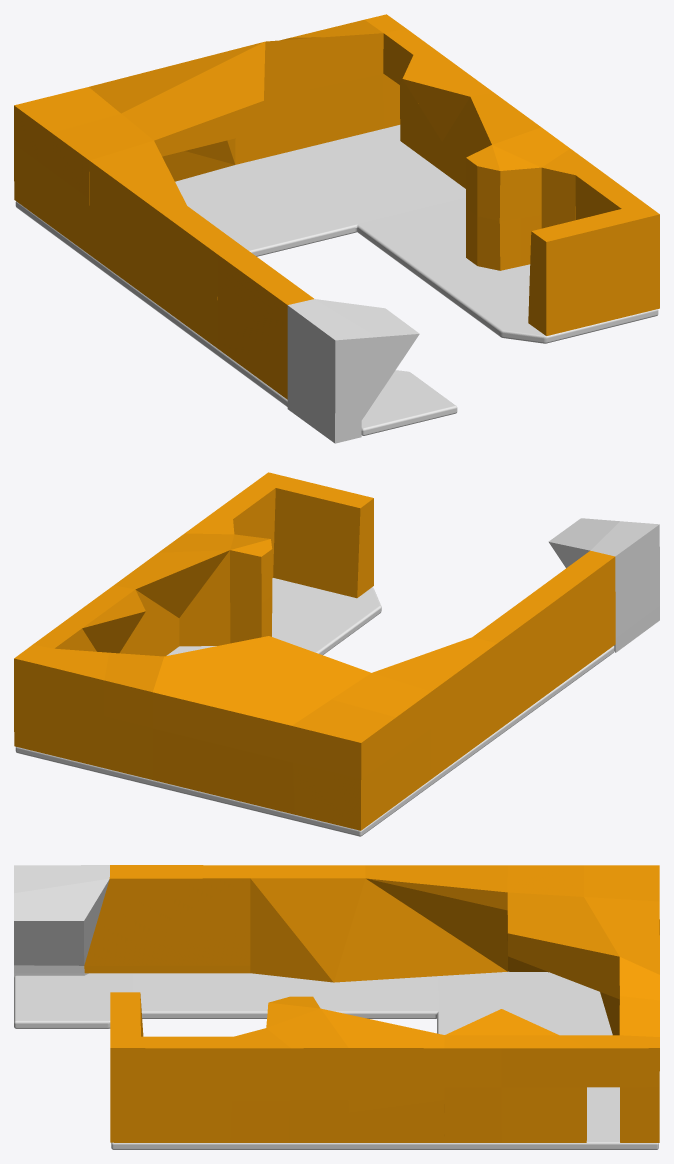
File: VCmapThreeJS.glb
The picture shows the model from 3 angles, top to bottom: view 1: azimuth 30°, elevation 25°; view 2: azimuth 150°, elevation 25°; view 3: azimuth 270°, elevation 25°; orthographic projection. The views are drawn at different scales.
Visible parts, largest first — view 1: 10.Mats, 04.TheRuff, 09.CircleOfLife, 05.FlatDoor, 00.MoonBoard, 08.BobYourUncle, 03.HighTension, 06.Titanic, 01.MoonKorner, 02.Slabber, 07.HangOverCorner; view 2: 04.TheRuff, 05.FlatDoor, 09.CircleOfLife, 10.Mats, 07.HangOverCorner, 03.HighTension, 01.MoonKorner, 00.MoonBoard, 08.BobYourUncle, 02.Slabber, 06.Titanic; view 3: 10.Mats, 06.Titanic, 04.TheRuff, 03.HighTension, 01.MoonKorner, 08.BobYourUncle, 09.CircleOfLife, 07.HangOverCorner, 02.Slabber, 00.MoonBoard, 05.FlatDoor.
Boxes of the visible parts, x1,y1,x2,y2 form: 10.Mats: (15, 125, 658, 435); 04.TheRuff: (14, 41, 265, 254); 09.CircleOfLife: (528, 169, 659, 335); 05.FlatDoor: (235, 14, 406, 164); 00.MoonBoard: (287, 299, 419, 443); 08.BobYourUncle: (466, 127, 598, 270); 03.HighTension: (89, 141, 186, 306); 06.Titanic: (383, 29, 493, 188); 01.MoonKorner: (217, 248, 313, 399); 02.Slabber: (160, 206, 243, 348); 07.HangOverCorner: (470, 93, 540, 155); 04.TheRuff: (152, 636, 431, 830); 05.FlatDoor: (14, 645, 164, 779); 09.CircleOfLife: (211, 472, 373, 598); 10.Mats: (15, 578, 614, 836); 07.HangOverCorner: (114, 550, 230, 656); 03.HighTension: (372, 637, 497, 778); 01.MoonKorner: (526, 550, 615, 691); 00.MoonBoard: (548, 518, 659, 652); 08.BobYourUncle: (159, 514, 272, 643); 02.Slabber: (472, 598, 550, 730); 06.Titanic: (32, 585, 145, 654); 10.Mats: (14, 971, 658, 1149); 06.Titanic: (444, 1009, 619, 1142); 04.TheRuff: (507, 865, 659, 1035); 03.HighTension: (334, 865, 507, 982); 01.MoonKorner: (84, 865, 250, 973); 08.BobYourUncle: (230, 996, 348, 1142); 09.CircleOfLife: (110, 992, 233, 1142); 07.HangOverCorner: (321, 1008, 444, 1142); 02.Slabber: (250, 865, 365, 982); 00.MoonBoard: (14, 865, 109, 976); 05.FlatDoor: (619, 957, 659, 1142).
Bounding box in the file's own units: 15.05 × 4.84 × 22.44.
